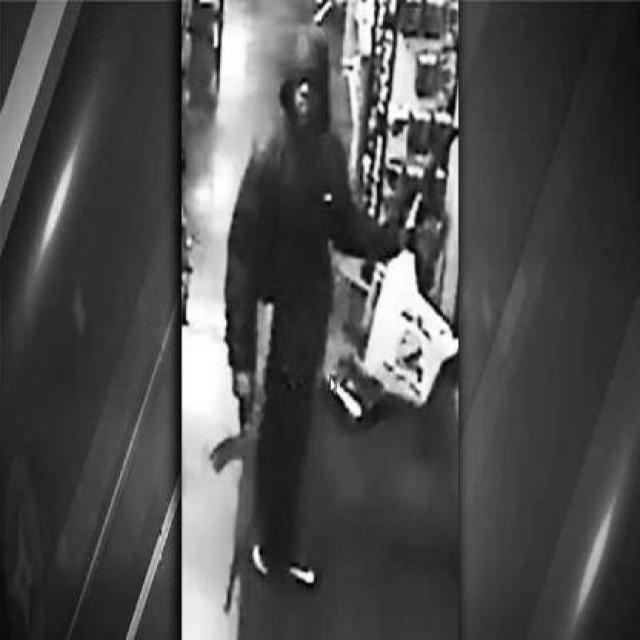weapon: (212, 362, 262, 615)
